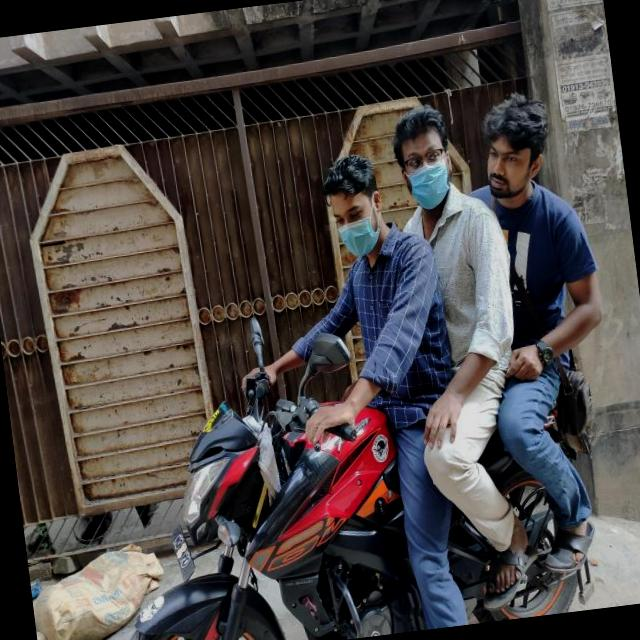motorcycle: (81, 307, 638, 640)
person: (347, 82, 558, 592), (281, 139, 494, 640), (454, 84, 640, 586)
